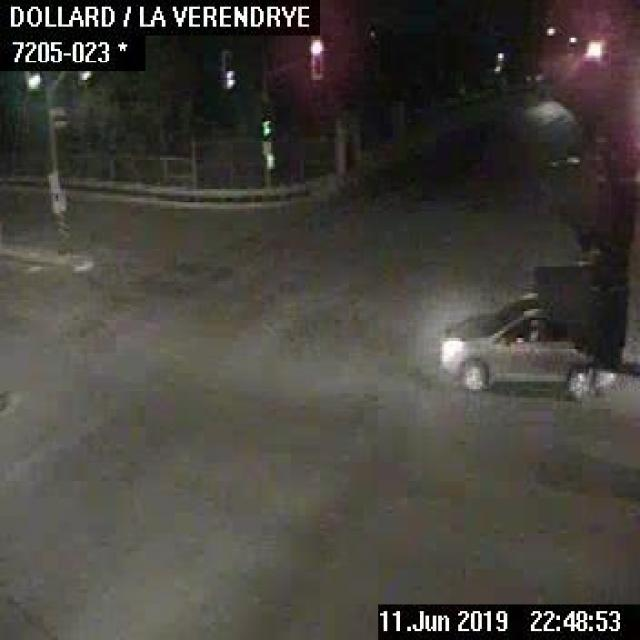vehicle: (440, 294, 602, 394)
